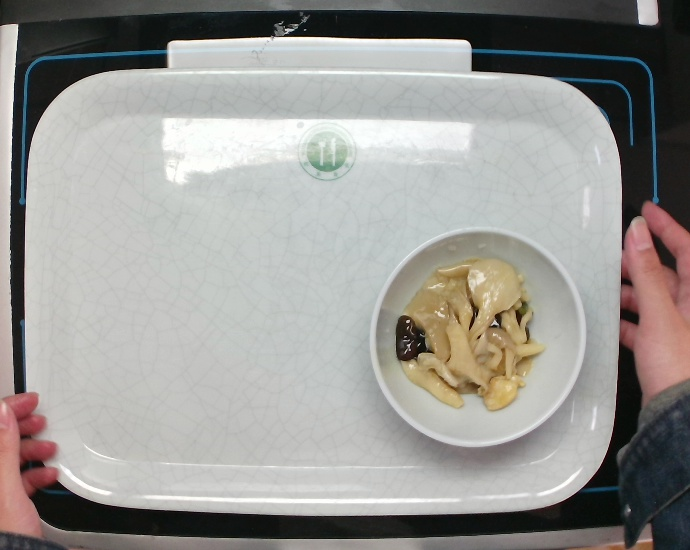JYsf-Fan_Wan: (361, 225, 595, 450)
